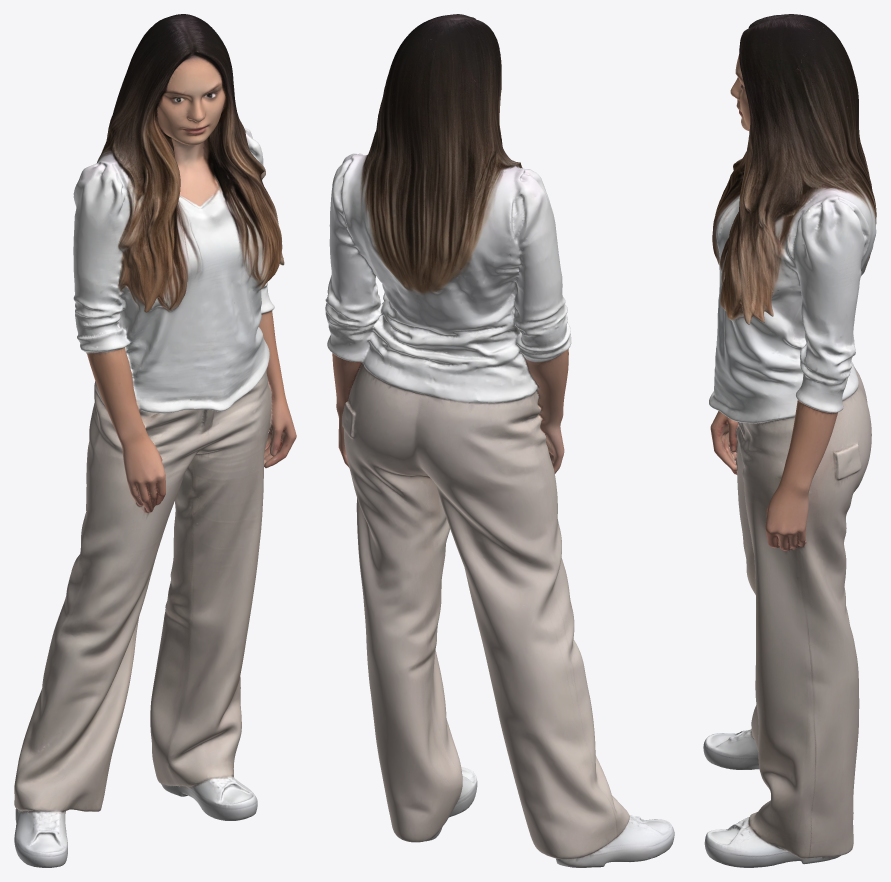
The model's file is effortless neutrals-dzrxnw-q.glb.
3 views of the same model, side by side, from view 1: azimuth 30°, elevation 25°; view 2: azimuth 150°, elevation 25°; view 3: azimuth 270°, elevation 25° (orthographic). The views are drawn at different scales.
Visible parts, largest first — view 1: mesh_0; view 2: mesh_0; view 3: mesh_0.
Part boxes in pixels (x1,y1,x2,y2): mesh_0: (14,14,296,867); mesh_0: (325,14,674,867); mesh_0: (703,14,876,867).
Bounding box in the file's own units: 0.7433 × 1.9 × 0.3587.
1 material, 1 textured.
